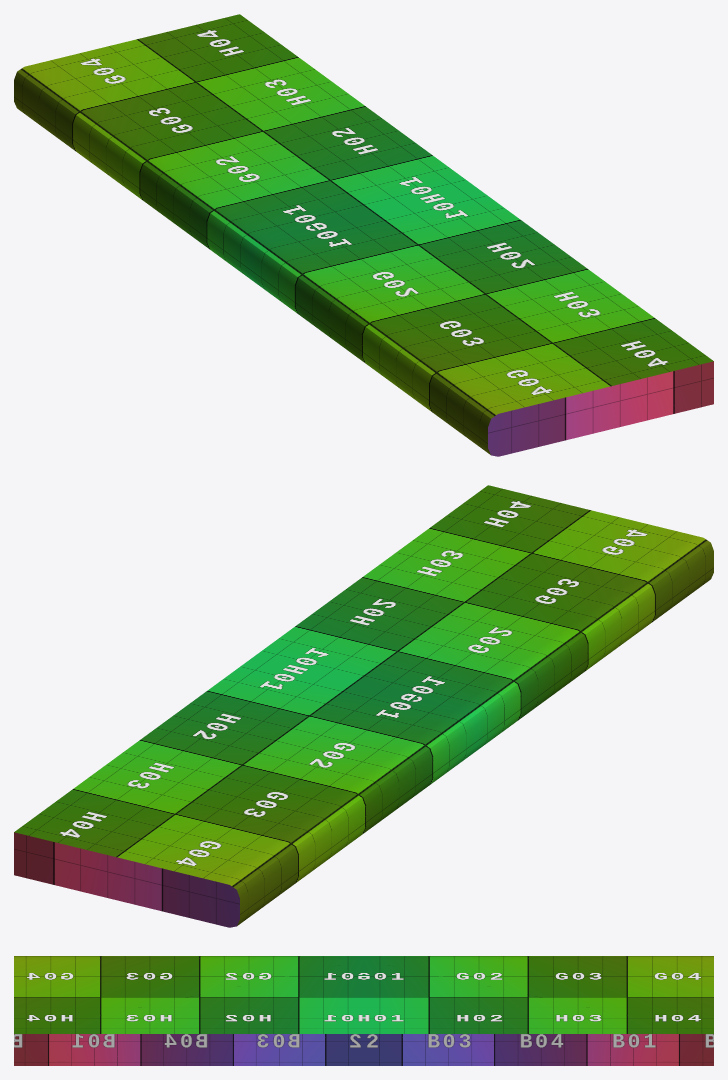
Rendered from ToiletTopPlaque_low.fbx.
3 renders of one model, top to bottom at view 1: azimuth 30°, elevation 25°; view 2: azimuth 150°, elevation 25°; view 3: azimuth 270°, elevation 25°, orthographic. The views are drawn at different scales.
Visible parts, largest first — view 1: ToiletTopPlaque_low; view 2: ToiletTopPlaque_low; view 3: ToiletTopPlaque_low.
Part boxes in pixels (bbox=[...]): ToiletTopPlaque_low: bbox=[14, 14, 713, 456]; ToiletTopPlaque_low: bbox=[14, 485, 713, 927]; ToiletTopPlaque_low: bbox=[14, 956, 713, 1065].
Size of the model in its own units: 55 by 10 by 200.
